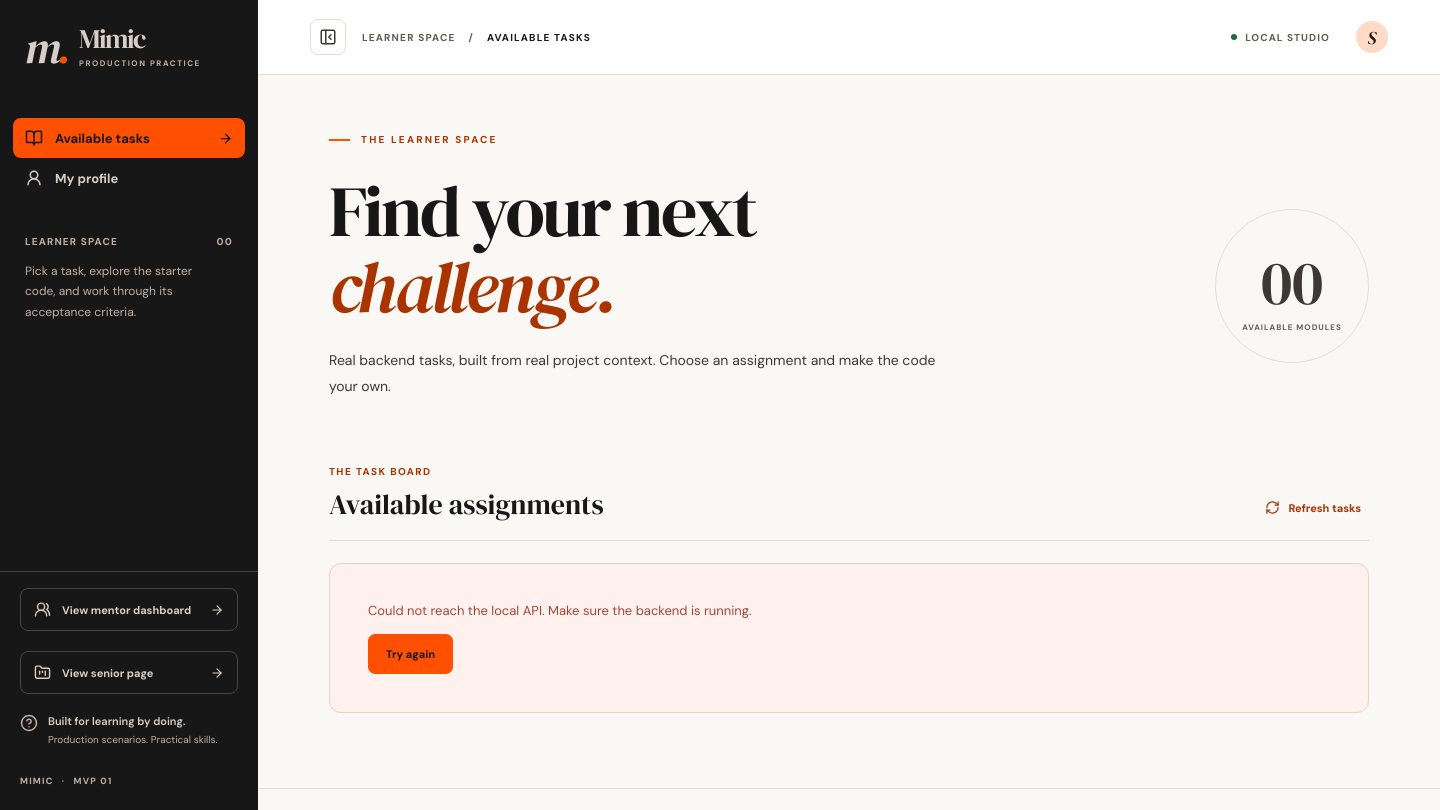
recovers the junior catalog after a failed request
The width and height of the screenshot is (1440, 810).
Expected: the message shows "Could not reach", [368,602,752,619]
Click the button "Try again" at {"x": 410, "y": 654}, box [368,634,453,674]
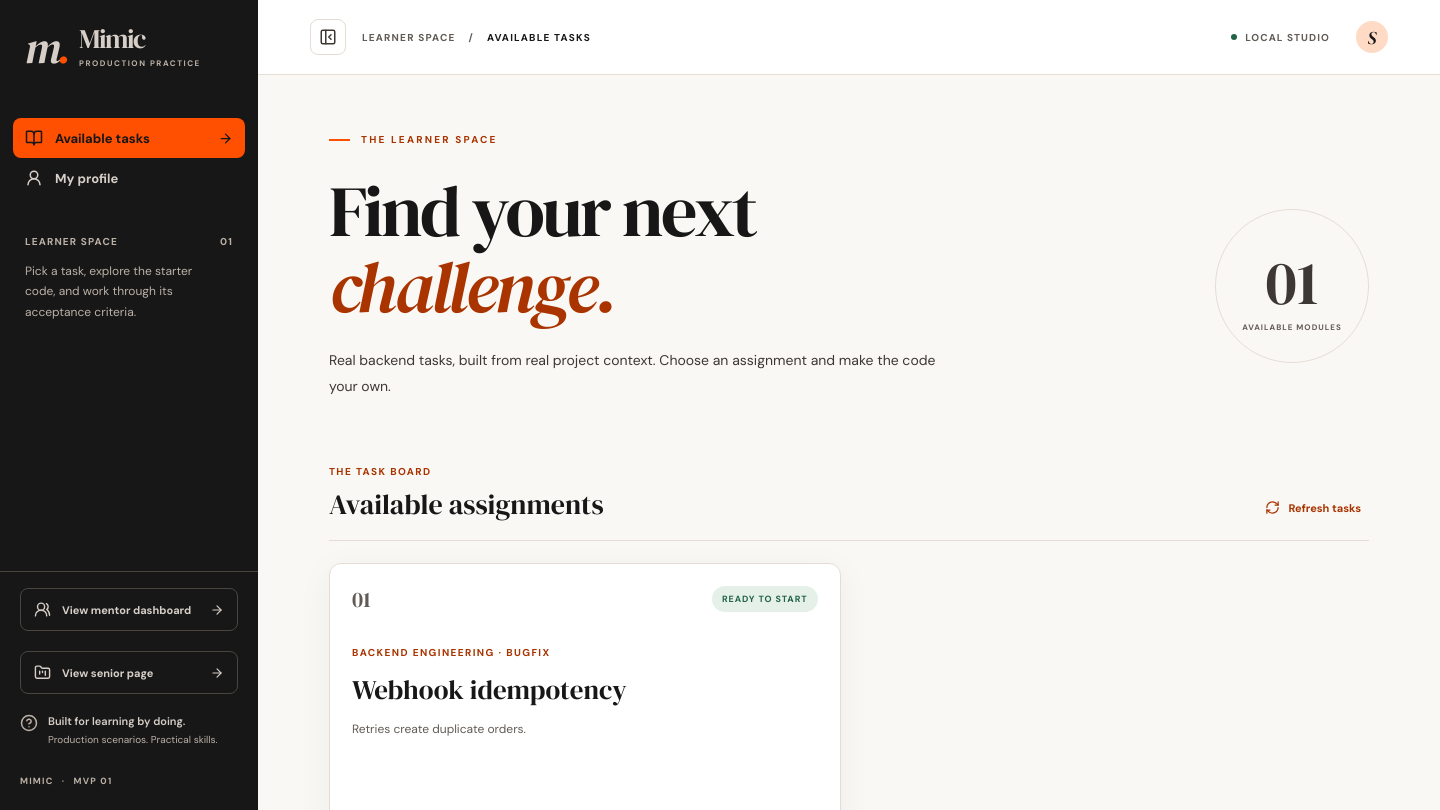
Expected: the button "Webhook idempotency" is shown, [352,674,627,706]
